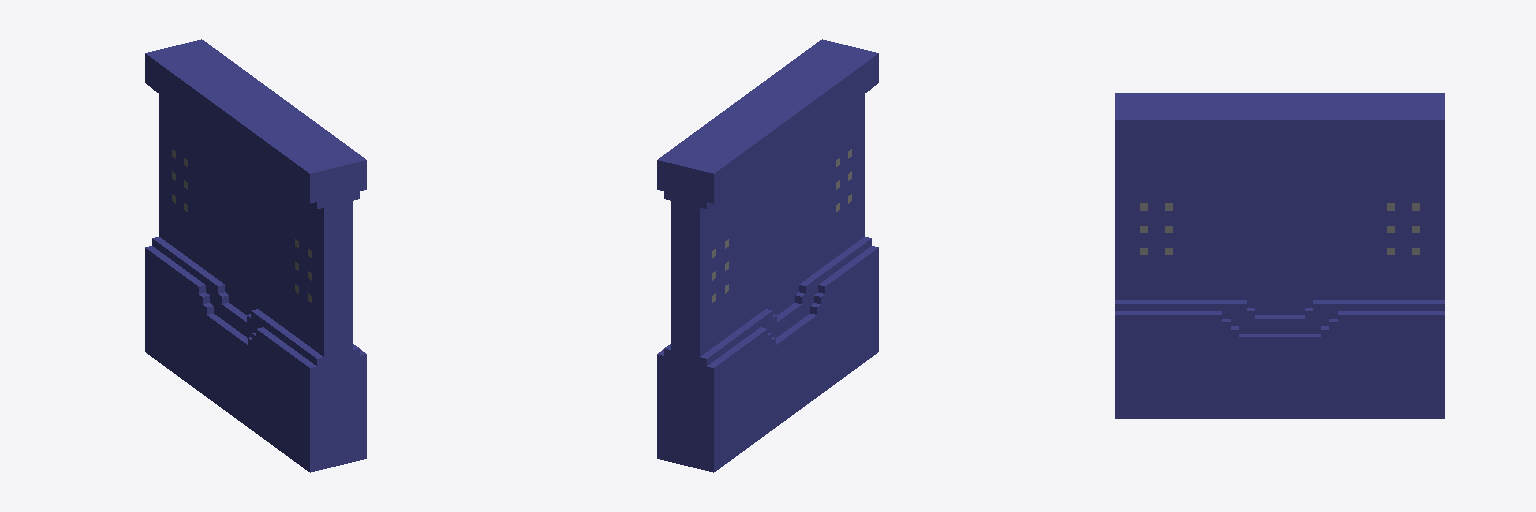
The picture shows the model from 3 angles: view 1: azimuth 30°, elevation 25°; view 2: azimuth 150°, elevation 25°; view 3: azimuth 270°, elevation 25°; orthographic projection.
Parts seen in each view (by area): view 1: wall; view 2: wall; view 3: wall.
Part boxes in pixels (x1,y1,x2,y2): wall: (145,39,366,472); wall: (657,39,878,472); wall: (1115,93,1444,418).
Bounding box in the file's own units: 8 × 40 × 40.
1 materials, 1 textured.